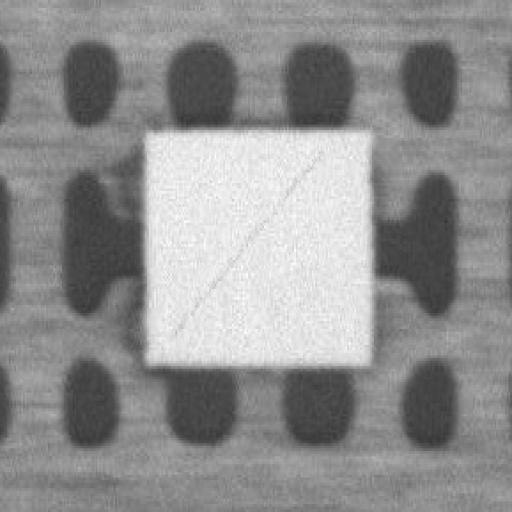DIE_CRACK: (260, 99, 480, 220)
